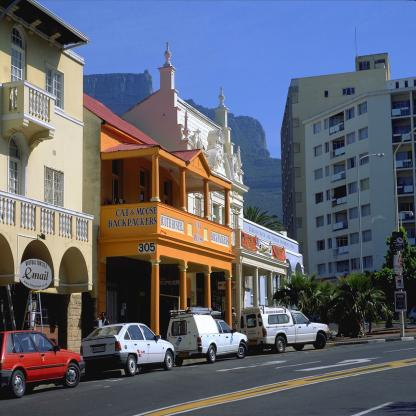Car: (1, 332, 86, 400), (81, 325, 177, 377)
